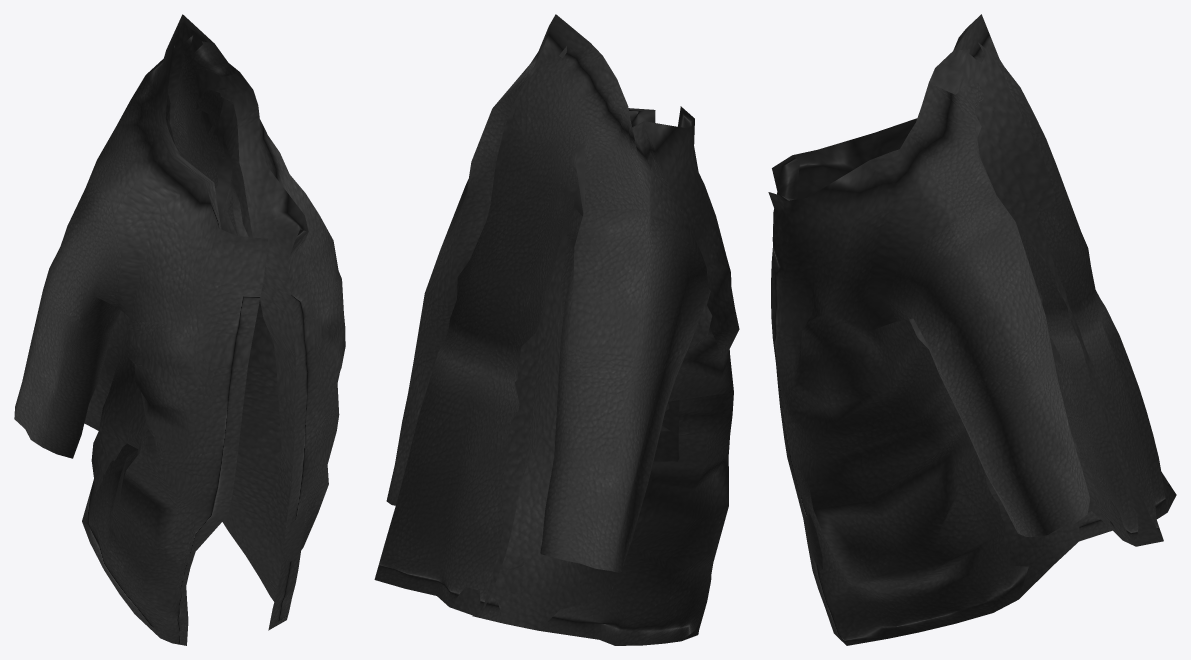
The model's file is coatHanging.fbx.
3 renders of one model, left to right at view 1: azimuth 30°, elevation 25°; view 2: azimuth 150°, elevation 25°; view 3: azimuth 270°, elevation 25°, orthographic. The views are drawn at different scales.
Parts seen in each view (by area): view 1: coatHanging; view 2: coatHanging; view 3: coatHanging.
Part boxes in pixels (x1=…): coatHanging: x1=14, y1=14, x2=345, y2=645; coatHanging: x1=374, y1=14, x2=739, y2=645; coatHanging: x1=768, y1=14, x2=1176, y2=645.
Bounding box in the file's own units: 0.765 × 1.88 × 1.14.
1 material, 1 textured.
